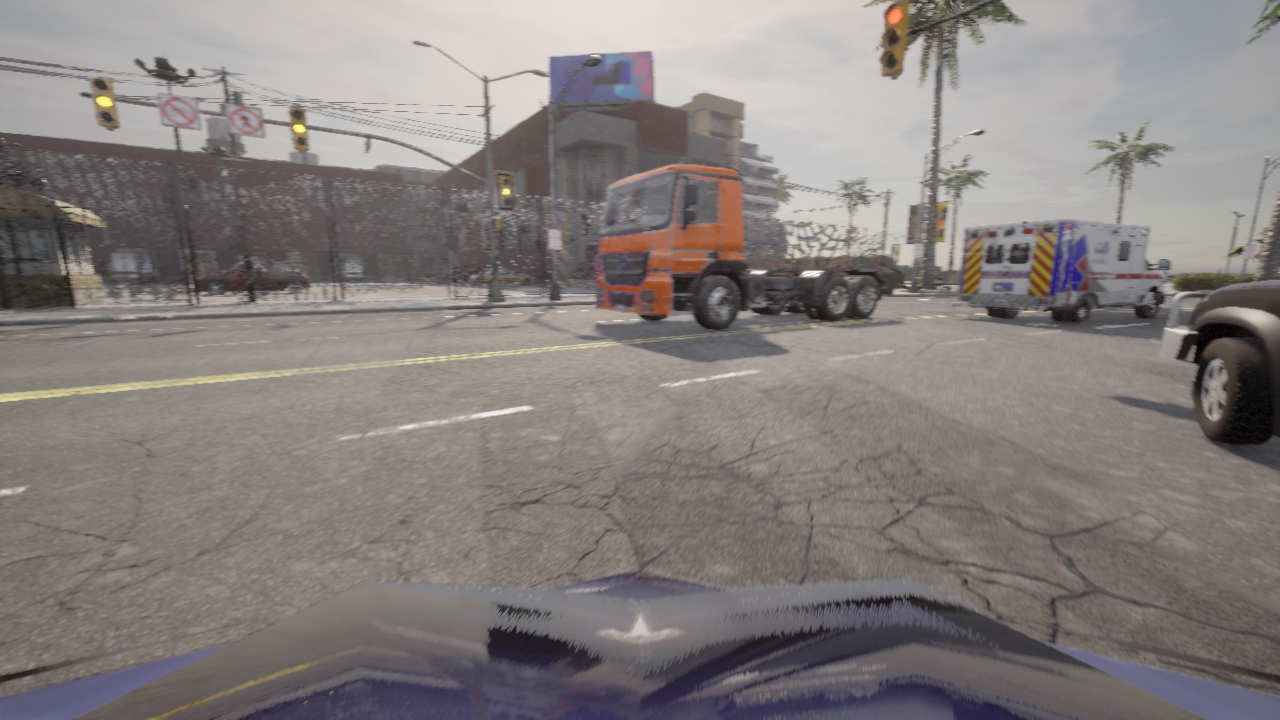cyclist: (0, 569, 1279, 719), (595, 164, 892, 330), (952, 220, 1170, 323), (1160, 278, 1279, 445), (197, 259, 310, 295), (106, 253, 153, 283), (435, 265, 485, 283), (479, 269, 532, 285), (467, 270, 508, 284), (340, 258, 364, 281), (450, 269, 482, 283), (238, 256, 263, 262)
